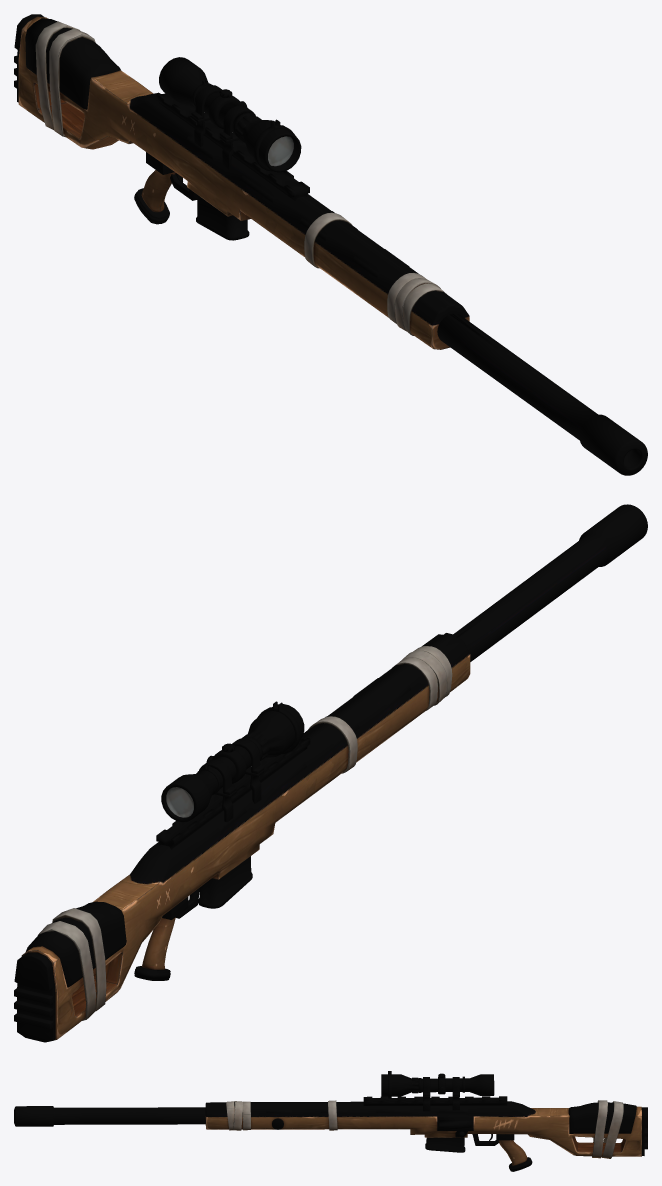
Rendered from Warfare Magnum British Stylized Sniper.obj.
The picture shows the model from 3 angles, top to bottom: view 1: azimuth 30°, elevation 25°; view 2: azimuth 150°, elevation 25°; view 3: azimuth 270°, elevation 25°; orthographic projection. The views are drawn at different scales.
Parts seen in each view (by area): view 1: desirefx_me_002, desirefx_me_004, desirefx_me_003, desirefx_me_005; view 2: desirefx_me_002, desirefx_me_004, desirefx_me_003, desirefx_me_005; view 3: desirefx_me_002, desirefx_me_004, desirefx_me_003, desirefx_me_005.
Boxes of the visible parts, <box> form: desirefx_me_002: <box>14,14,647,475</box>; desirefx_me_004: <box>159,57,301,172</box>; desirefx_me_003: <box>35,21,446,335</box>; desirefx_me_005: <box>196,194,249,240</box>; desirefx_me_002: <box>14,504,647,1042</box>; desirefx_me_004: <box>161,701,304,822</box>; desirefx_me_003: <box>37,646,452,1020</box>; desirefx_me_005: <box>198,856,252,908</box>; desirefx_me_002: <box>14,1096,647,1171</box>; desirefx_me_004: <box>381,1071,494,1111</box>; desirefx_me_003: <box>226,1100,623,1158</box>; desirefx_me_005: <box>425,1137,465,1152</box>.
Bounding box in the file's own units: 11.19 × 31.44 × 183.
